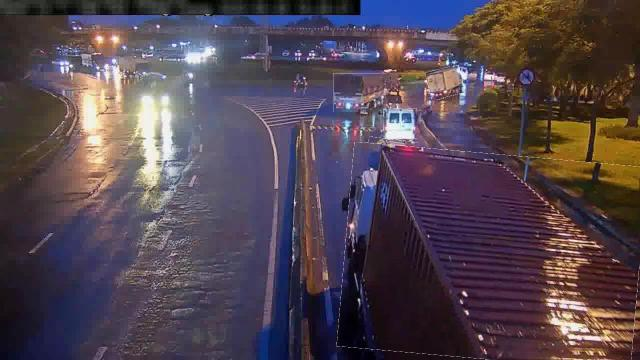Bus: (383, 108, 417, 140)
Car: (366, 138, 418, 176)
Truck: (340, 148, 640, 360), (334, 74, 386, 112), (426, 67, 464, 99)
